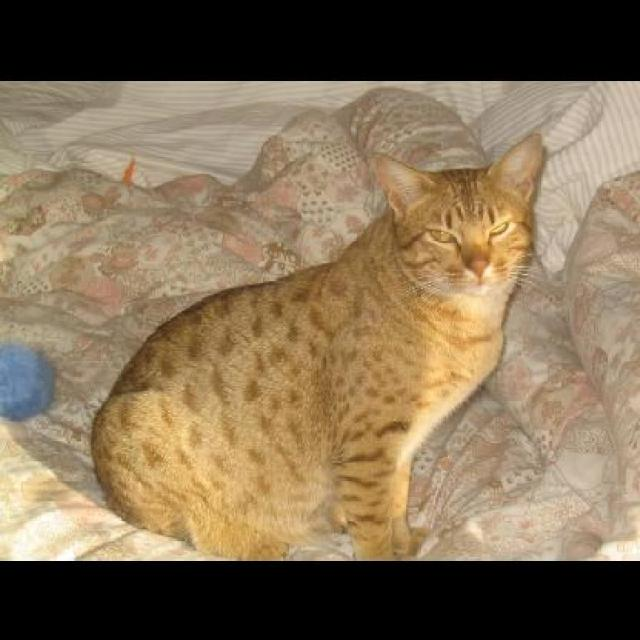unauthorized: (89, 131, 546, 560)
